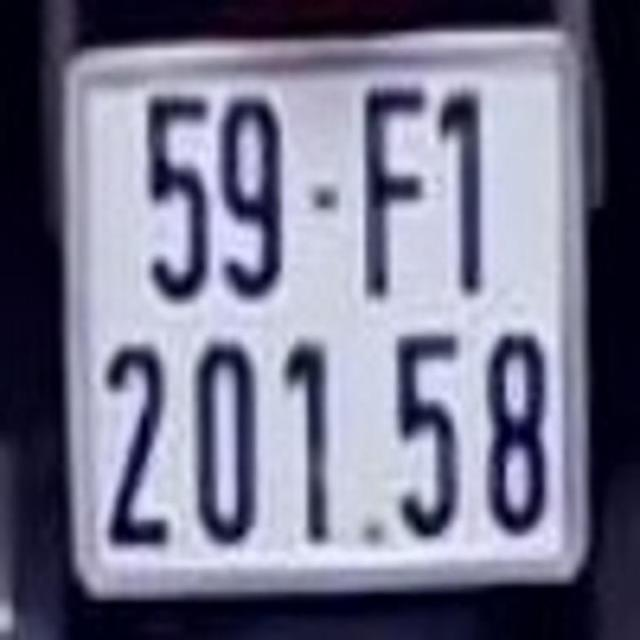0: (189, 335, 262, 540)
1: (280, 332, 337, 542), (437, 83, 488, 296)
2: (96, 338, 172, 543)
5: (392, 323, 465, 543), (141, 87, 213, 299)
8: (477, 328, 550, 538)
9: (216, 91, 283, 303)
F: (360, 76, 432, 302)
